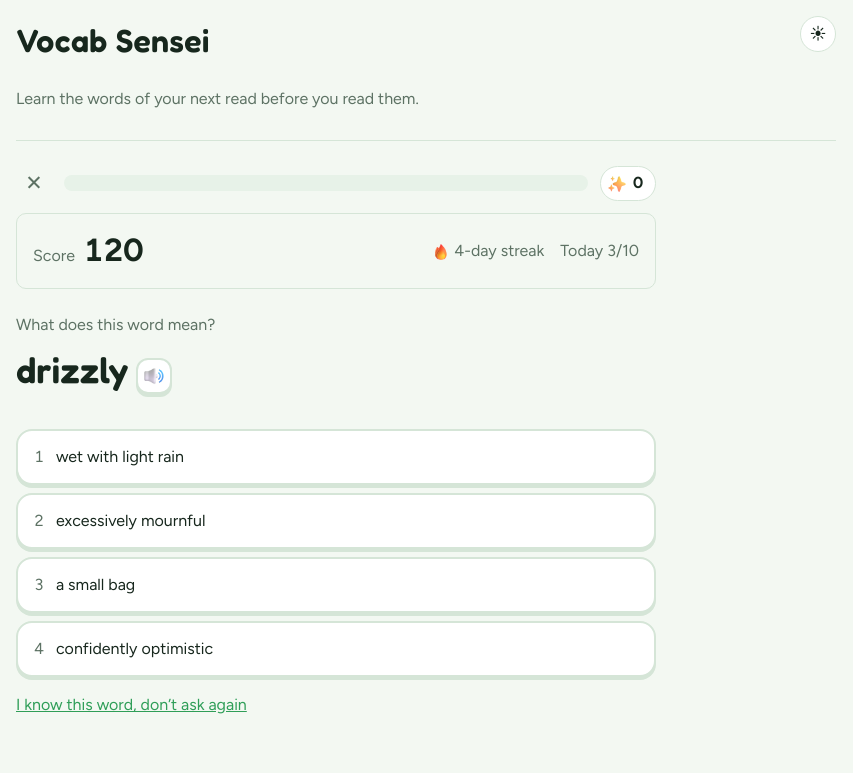
Test case: quiz › a right answer adds to the score with a green pop and shows the sentence
Click the button "1 wet with light rain".
click(120, 457)  # box [16,430,656,486]
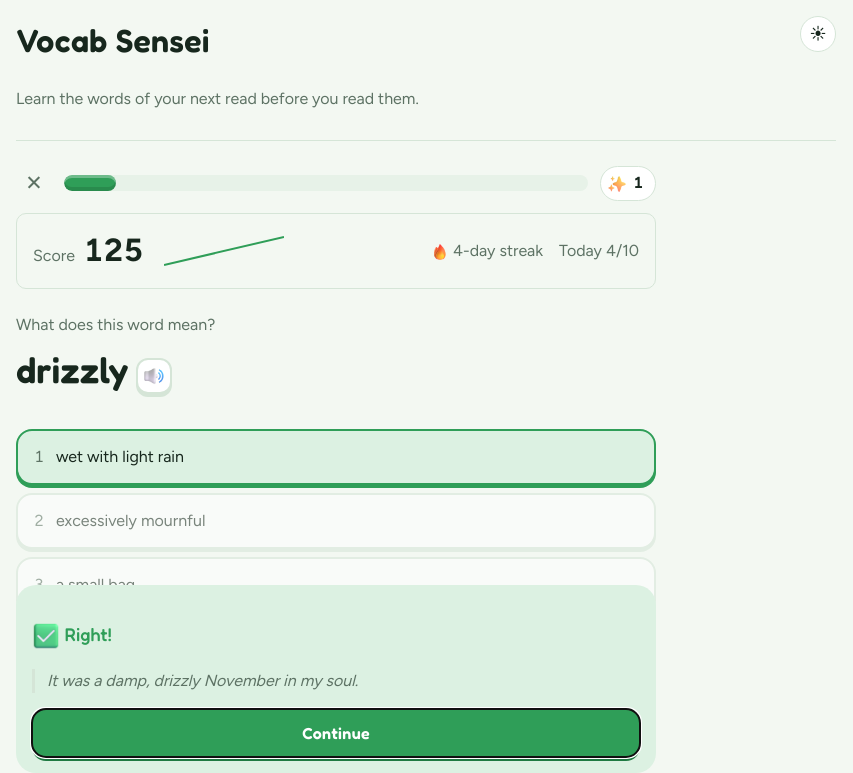
Check: the message reads "Right!", box [65,622,112,644]
Check: the text with test id "score" reads "125", box [83,231,144,269]
Check: the text "It was a damp, drizzly November in my soul." is shown, box [32,668,640,693]
